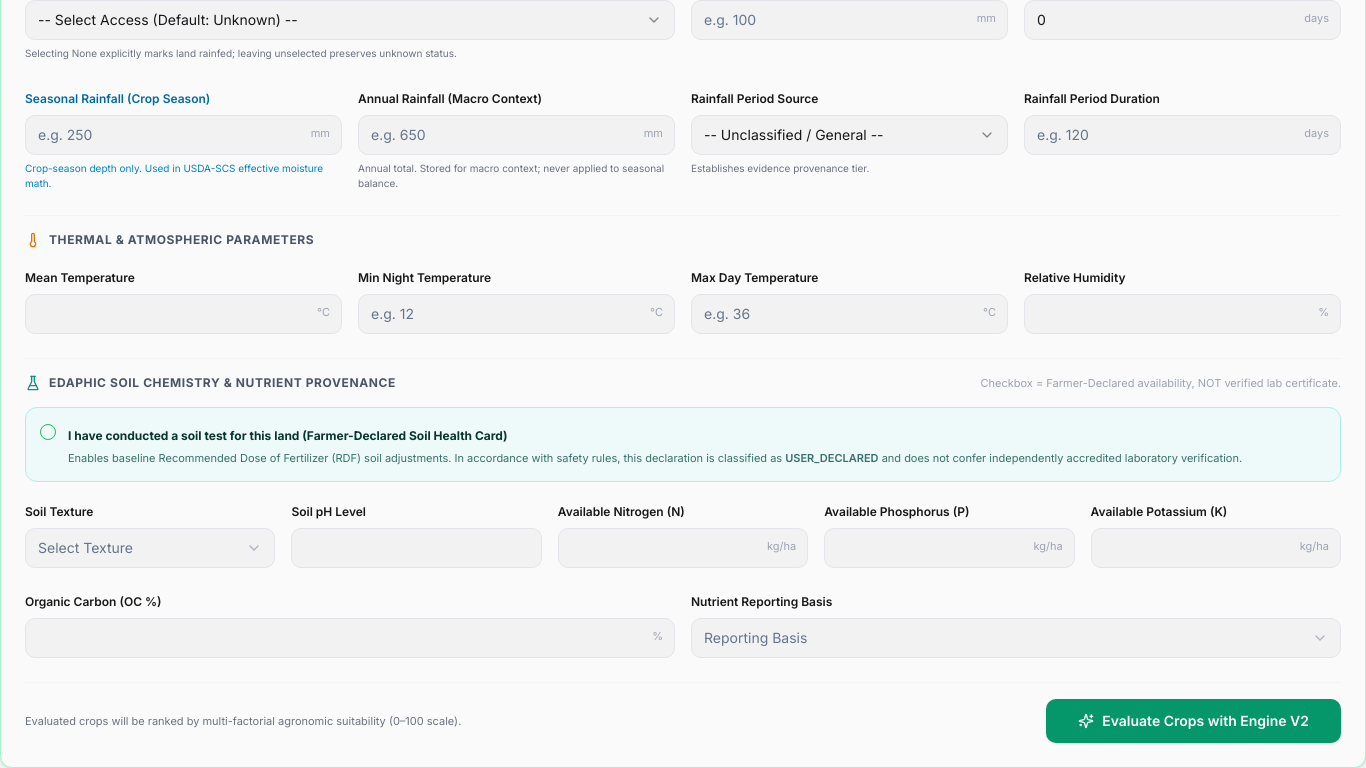
Test: Phase 3C.6.3: Frontend V2 Integration Tests › PredictionFormV2 Component › validates whole-day integers for irrigation period days and rejects non-positive/zero
This screenshot has width=1366, height=768.
(page scrolled)
Click the button "Evaluate Crops with Engine V2" at (1194, 721), box top-left (1046, 699), bottom-right (1341, 743)
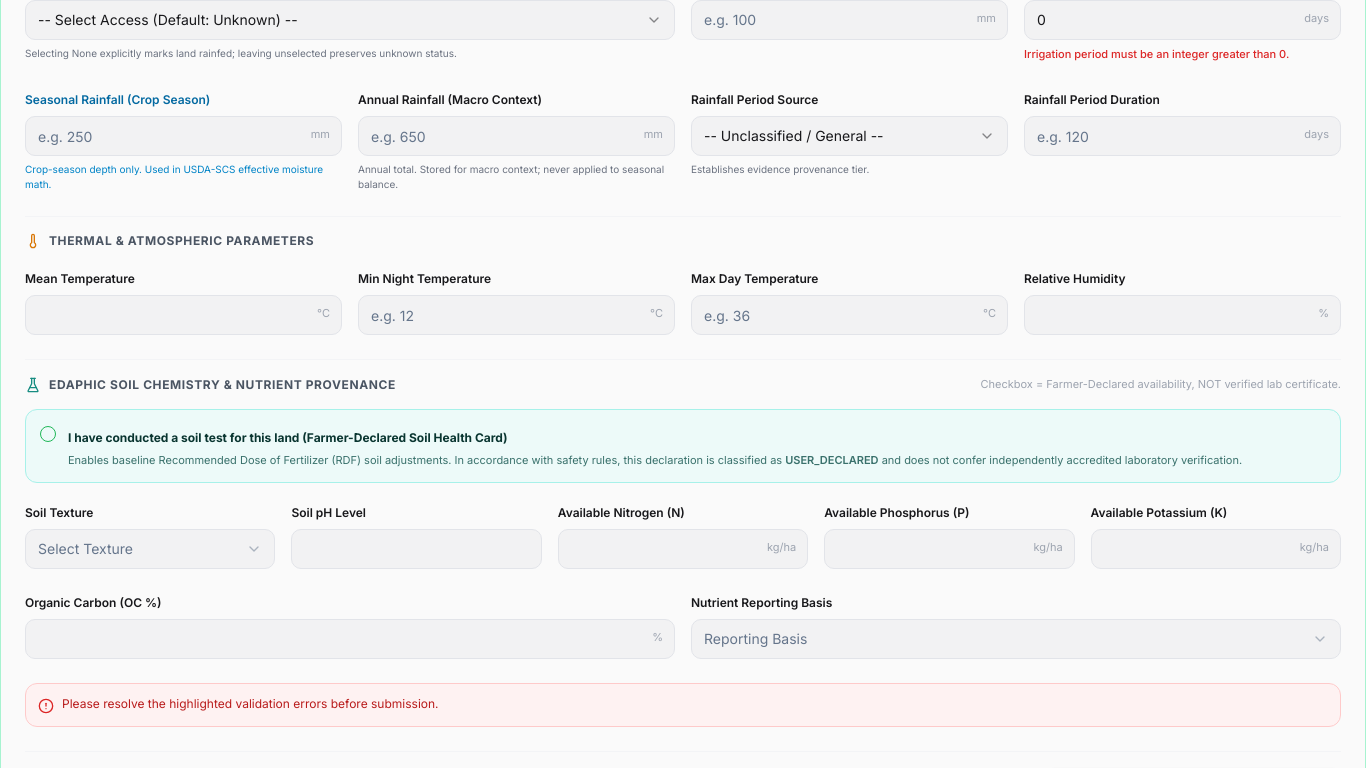
expect the text "Irrigation period must be an integer greater than 0." is shown: met, box top-left (1024, 47), bottom-right (1289, 61)
